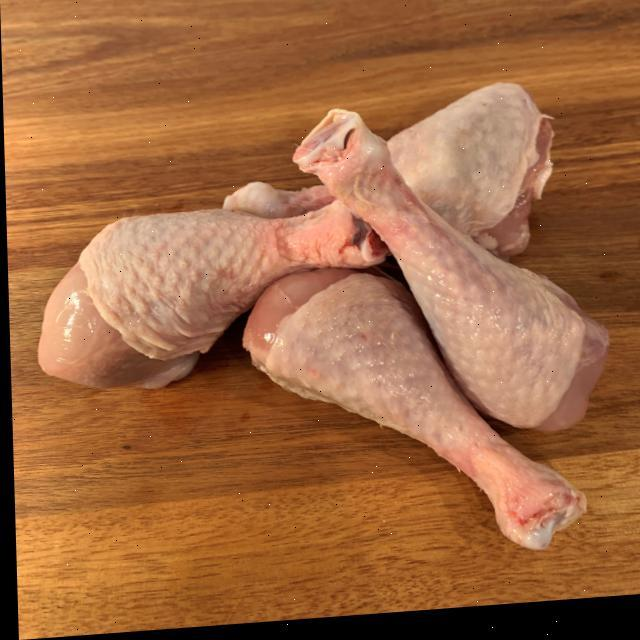leg: (246, 248, 572, 582), (304, 114, 592, 448), (24, 194, 378, 396), (193, 91, 552, 281)
